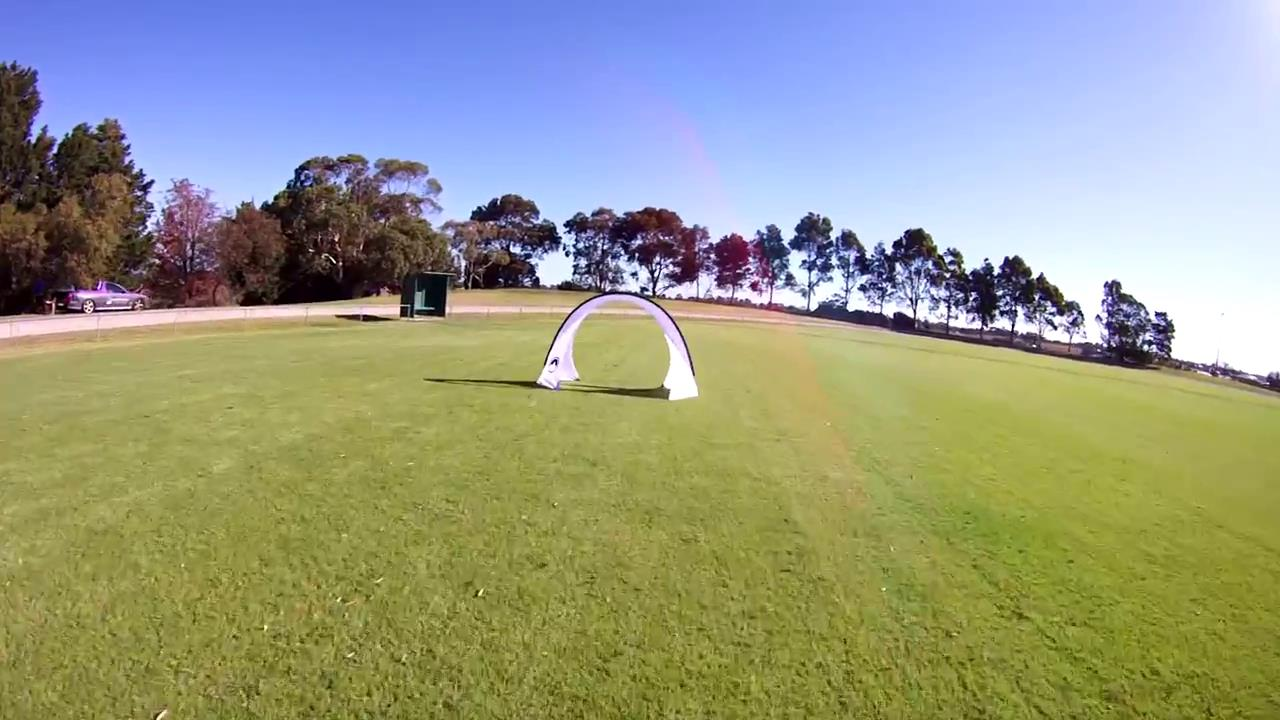gate: (535, 290, 703, 404)
